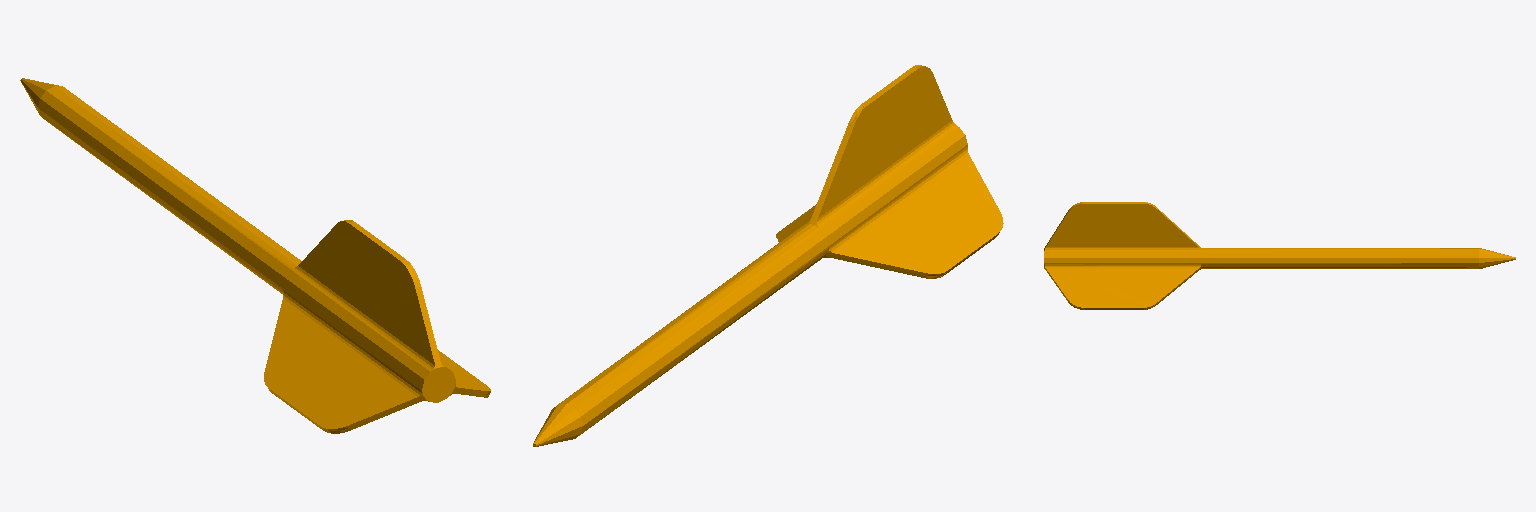
robot.urdf — dart:
<?xml version="1.0" encoding="utf-8"?>
<!-- This URDF was automatically created by SolidWorks to URDF Exporter! Originally created by [author] ([email redacted]) 
     Commit Version: 1.5.1-0-g916b5db  Build Version: 1.5.7152.31018
     For more information, please see http://wiki.ros.org/sw_urdf_exporter -->
<robot
  name="dart">
  <link
    name="dart">
    <inertial>
      <origin
        xyz="-2.1263E-09 0.02 -1.46159999973443E-08"
        rpy="0 0 0" />
      <mass
        value="0.0081586" />
      <inertia
        ixx="1.4619E-05"
        ixy="-2.6395E-14"
        ixz="-1.1456E-13"
        iyy="3.5961E-07"
        iyz="5.3385000873107E-14"
        izz="1.4619E-05" />
    </inertial>
    <visual>
      <origin
        xyz="0 0 0"
        rpy="1.5707963267949 0 0" />
      <geometry>
        <mesh
          filename="dart.obj" />
      </geometry>
    </visual>
    <collision>
      <origin
        xyz="0 0 0"
        rpy="1.5707963267949 0 0" />
      <geometry>
        <mesh
          filename="dart.obj" />
      </geometry>
    </collision>
  </link>
</robot>

--- Facts derived from the render (not from the file) ---
The picture shows the robot from 3 angles, left to right: view 1: azimuth 30°, elevation 25°; view 2: azimuth 150°, elevation 25°; view 3: azimuth 270°, elevation 25°; orthographic projection.
Model dart with 1 links and 0 joints (none), rooted at dart, posed all joints at 0.
Links seen in each view (by area): view 1: dart; view 2: dart; view 3: dart.
Boxes of the visible links, x1,y1,x2,y2 form: dart: (20,78,490,433); dart: (533,65,1003,446); dart: (1044,202,1515,309).
Bounding box of the posed robot: 0.0352 × 0.1524 × 0.0304 m (x, y, z).
1 mesh visuals loaded from 1 distinct referenced files (1 OBJ).